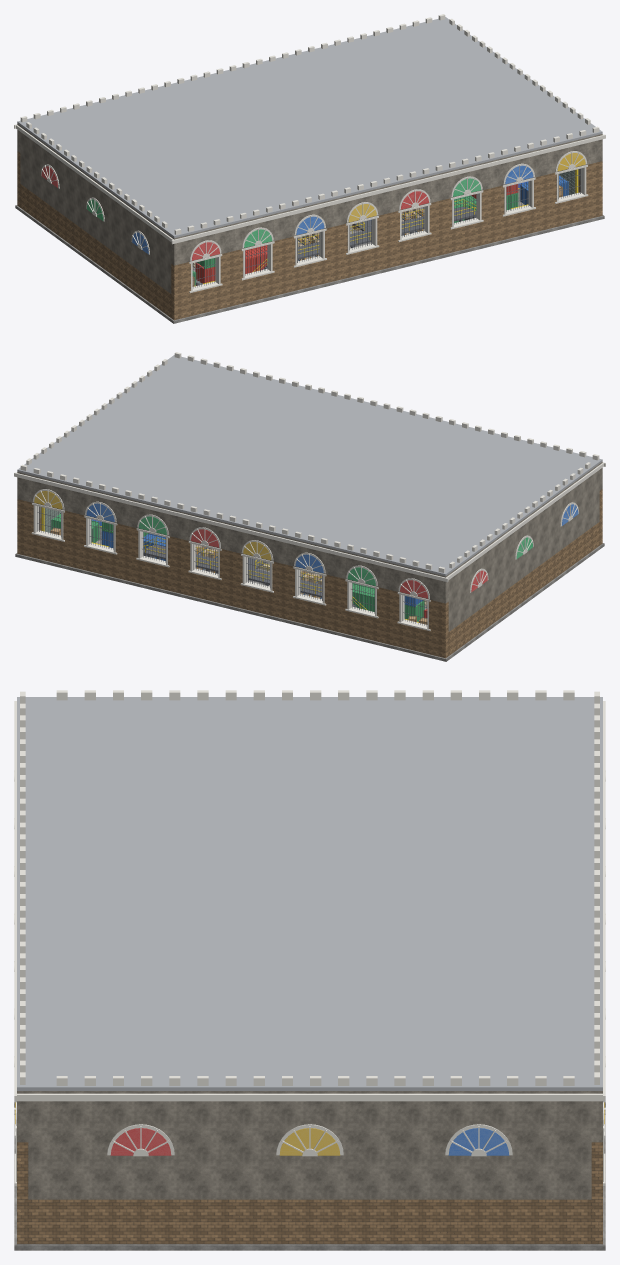
The model's file is Sanaa_Warehouse.glb.
3 renders of one model, top to bottom at view 1: azimuth 30°, elevation 25°; view 2: azimuth 150°, elevation 25°; view 3: azimuth 270°, elevation 25°, orthographic. The views are drawn at different scales.
Parts seen in each view (by area): view 1: Roof_Metal_Slab, Wall_South, Wall_West, Parapet_Crenellations_Yemeni, Cornice_Gypsum_Band, Floor_Concrete_Slab, Catwalk_South_Deck, Container_40ft_Red_Lane_SW, Window_South_08, Window_South_04, Window_South_01, Window_South_05 (+13 smaller); view 2: Roof_Metal_Slab, Wall_North, Wall_West, Parapet_Crenellations_Yemeni, Cornice_Gypsum_Band, Floor_Concrete_Slab, Catwalk_North_Deck, Container_40ft_Green_Lane_NW, Window_North_08, Window_North_04, Window_North_01, Window_North_05 (+13 smaller); view 3: Roof_Metal_Slab, Wall_East, Parapet_Crenellations_Yemeni, Cornice_Gypsum_Band, Floor_Concrete_Slab, Wall_North, Wall_South, Fanlight_East_1_Outer, Fanlight_East_2_Outer, Fanlight_East_3_Outer.
Boxes of the visible parts, <box> form: Roof_Metal_Slab: <box>17,17,602,238</box>; Wall_South: <box>171,134,602,320</box>; Wall_West: <box>20,126,171,317</box>; Parapet_Crenellations_Yemeni: <box>20,14,599,234</box>; Cornice_Gypsum_Band: <box>14,124,605,244</box>; Floor_Concrete_Slab: <box>15,189,604,323</box>; Catwalk_South_Deck: <box>298,207,474,259</box>; Container_40ft_Red_Lane_SW: <box>195,245,267,283</box>; Window_South_08: <box>555,165,588,203</box>; Window_South_04: <box>346,216,379,254</box>; Window_South_01: <box>189,254,222,292</box>; Window_South_05: <box>398,203,431,241</box>; Roof_Metal_Slab: <box>17,355,602,576</box>; Wall_North: <box>17,472,448,658</box>; Wall_West: <box>448,464,599,655</box>; Parapet_Crenellations_Yemeni: <box>20,352,599,572</box>; Cornice_Gypsum_Band: <box>14,462,605,582</box>; Floor_Concrete_Slab: <box>15,527,604,661</box>; Catwalk_North_Deck: <box>145,545,321,597</box>; Container_40ft_Green_Lane_NW: <box>352,583,424,621</box>; Window_North_08: <box>31,503,64,541</box>; Window_North_04: <box>240,554,273,592</box>; Window_North_01: <box>397,592,430,630</box>; Window_North_05: <box>188,541,221,579</box>; Roof_Metal_Slab: <box>17,697,602,1090</box>; Wall_East: <box>28,1091,591,1244</box>; Parapet_Crenellations_Yemeni: <box>20,690,599,1085</box>; Cornice_Gypsum_Band: <box>14,701,605,1102</box>; Floor_Concrete_Slab: <box>14,1115,605,1250</box>; Wall_North: <box>591,1091,602,1244</box>; Wall_South: <box>17,1091,28,1244</box>; Fanlight_East_1_Outer: <box>445,1124,512,1156</box>; Fanlight_East_2_Outer: <box>276,1124,343,1156</box>; Fanlight_East_3_Outer: <box>107,1124,174,1156</box>.
Size of the model in its own units: 66.4 by 13.3 by 42.04.
Materials: 32 (3 with a texture image).
